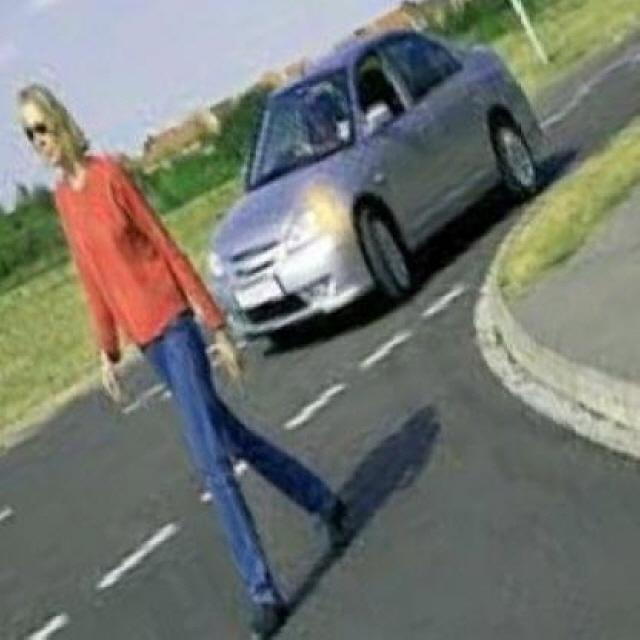Stand: (18, 85, 346, 640)
